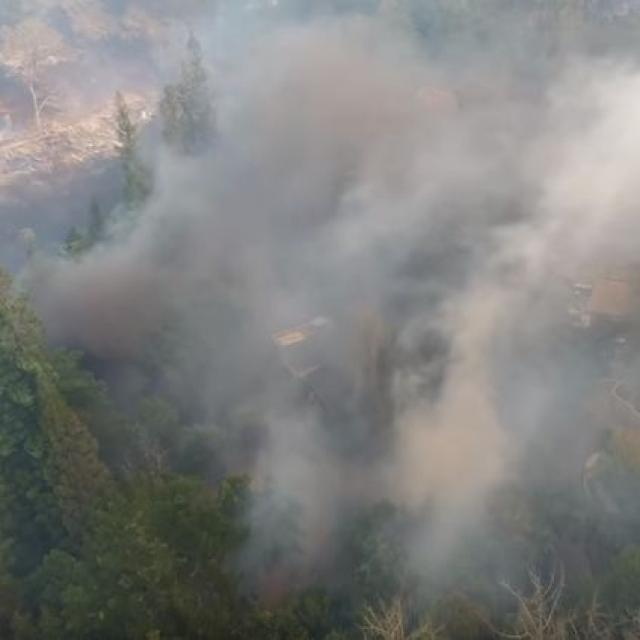Smoke: (74, 13, 640, 591)
